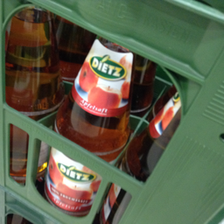juice: (46, 31, 132, 217), (5, 6, 64, 187)
